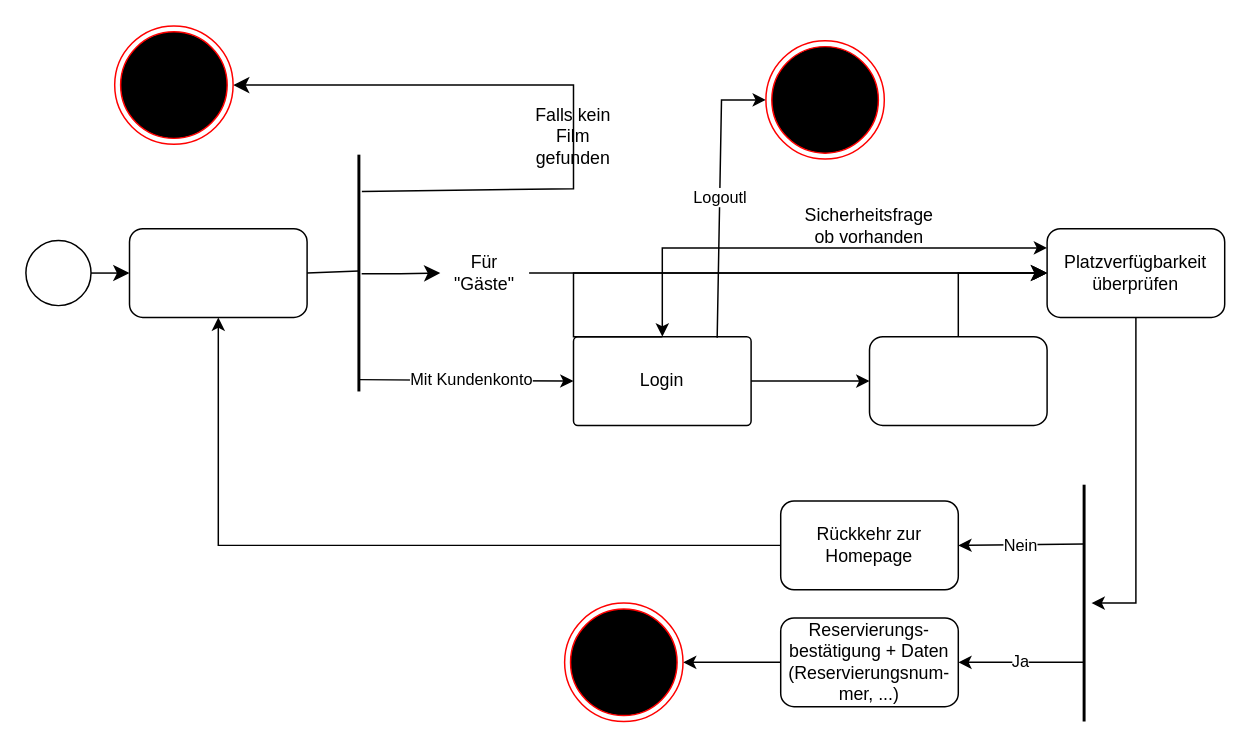
Some shapes in this 1251 by 749 pixel diagram are drawn without their labels. The shapes that lost their labels are listed below. From the top down, each one's centre as x and y in pixels, then its label:
At point (217, 272): "Nutzer Geht auf Seite/ schaut Programm an".
At point (957, 380): "Dashbpoard".
